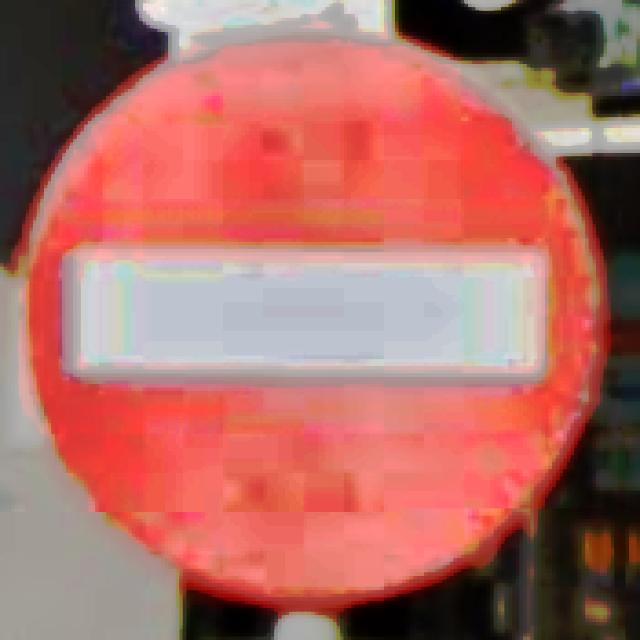noentry: (15, 32, 611, 615)
